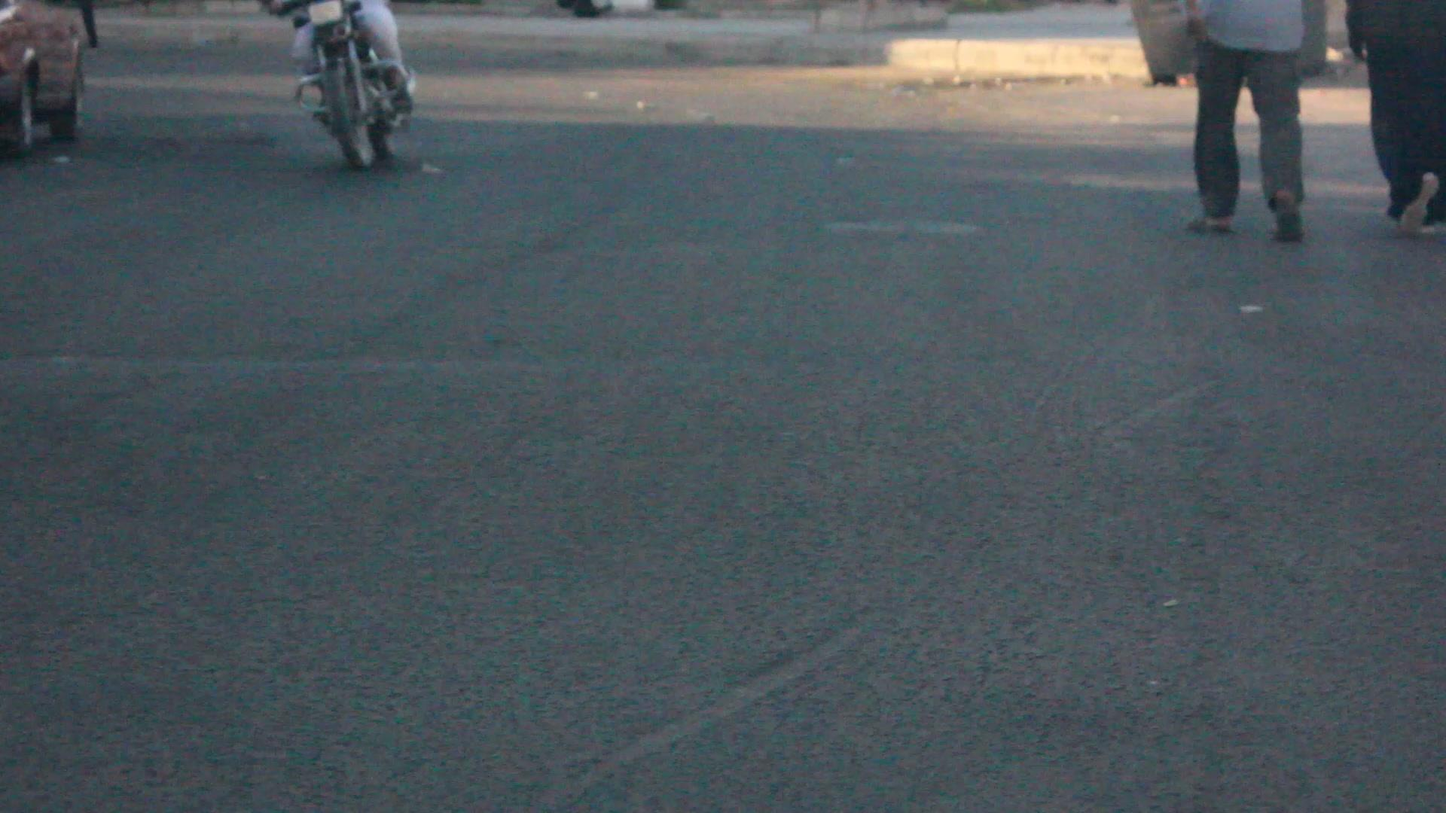Bump: (0, 359, 1445, 502)
